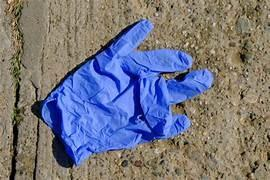Glove: (41, 19, 212, 164)
